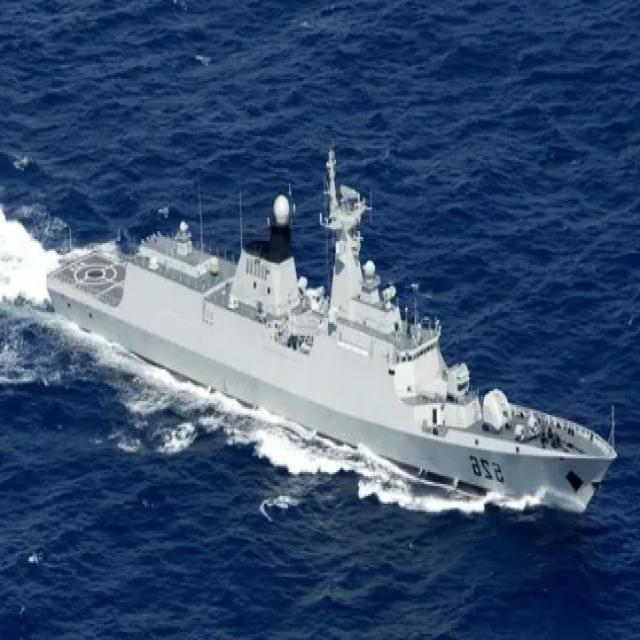navalvessels: (39, 122, 618, 524)
